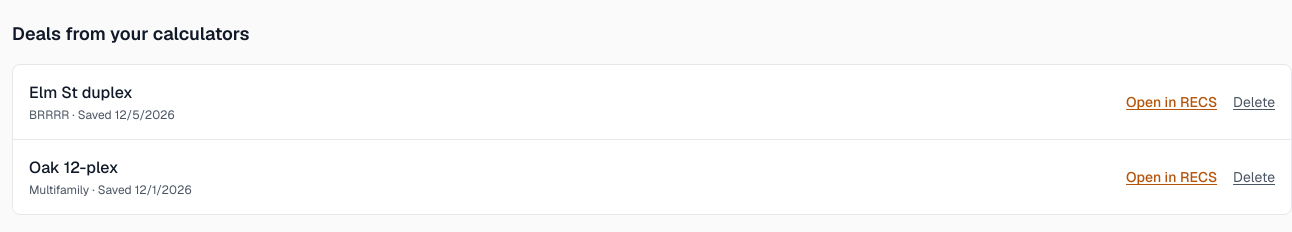
RecsDeals › asks to confirm, then deletes and removes the row
Click the button "Delete" in the row of "Elm St duplex" at x=1254, y=102, box [1233,92,1275,112]
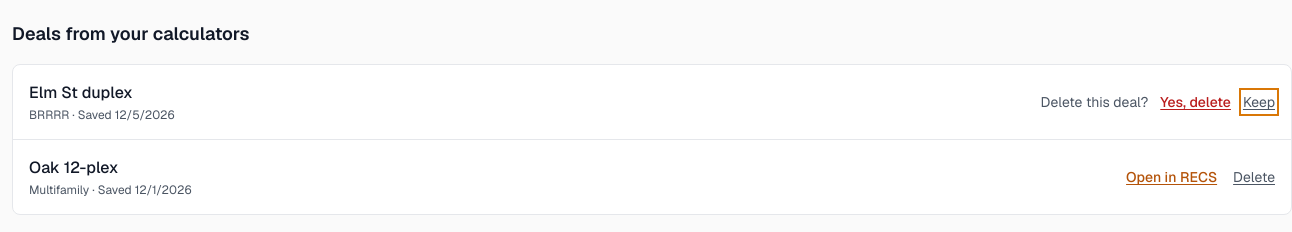
Now the text "Delete this deal?" is shown, box [1040,92,1148,112]
Click the button "Yes, delete" at x=1196, y=102, box [1160,92,1231,112]
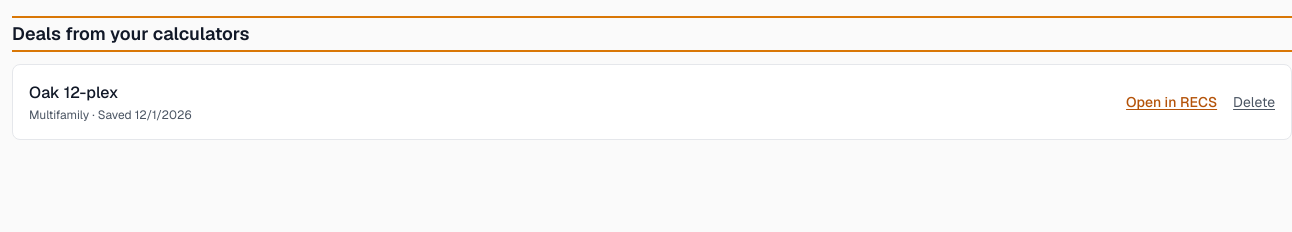
Now the number of list items is 1, box [29,82,1275,123]
Now the text "Elm St duplex" is gone
